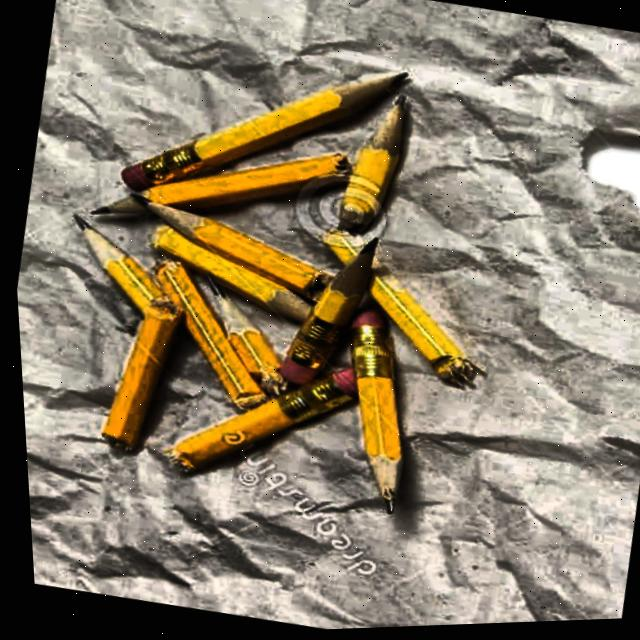paper: (13, 0, 640, 632)
